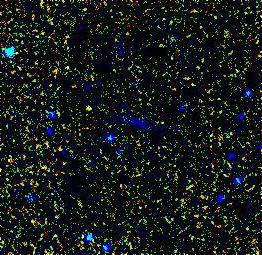star: (75, 90, 105, 120)
